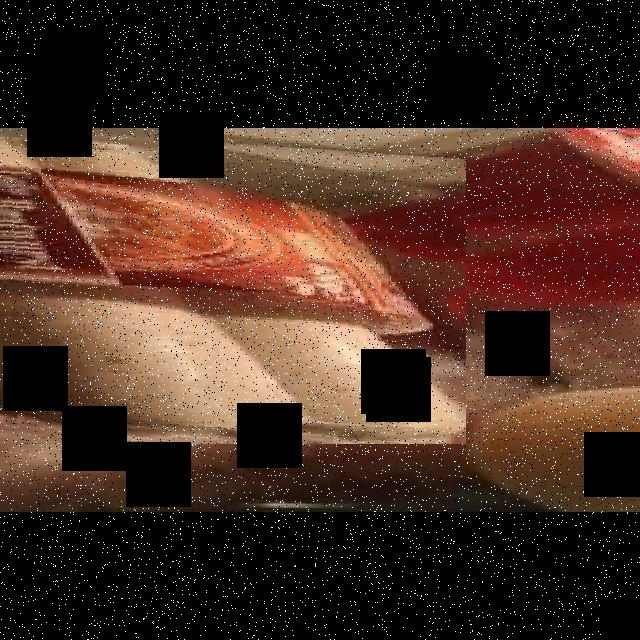sausage: (0, 128, 466, 444)
